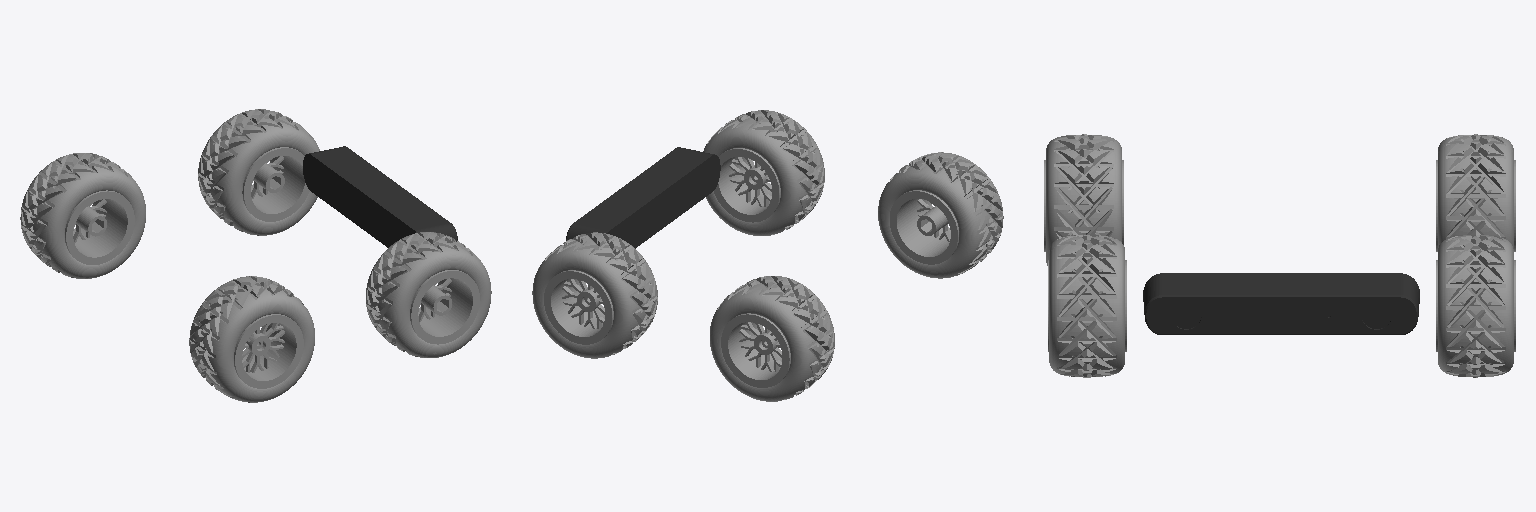
The robot description file, URDF, robot "mabot":
<?xml version="1.0" ?>
<!-- =================================================================================== -->
<!-- |    This document was autogenerated by xacro from mabot_description/urdf/mabot.urdf.xacro | -->
<!-- |    EDITING THIS FILE BY HAND IS NOT RECOMMENDED                                 | -->
<!-- =================================================================================== -->
<robot name="mabot">
  <!-- Materials (shared across all assemblies) -->
  <material name="Acetal_Resin_Black">
    <color rgba="0.098 0.098 0.098 1.0"/>
  </material>
  <material name="PA_11_Nylon_HP_11_30_with_EOS_P_396_3D_Printer">
    <color rgba="0.247 0.247 0.247 1.0"/>
  </material>
  <material name="Steel">
    <color rgba="0.627 0.627 0.627 1.0"/>
  </material>
  <link name="rear_left_wheel_link">
    <inertial>
      <origin rpy="0 0 0" xyz="0 0 0"/>
      <mass value="0.611603"/>
      <inertia ixx="5.265770e-04" ixy="-5.777757e-10" ixz="8.274260e-11" iyy="5.265750e-04" iyz="-6.033033e-11" izz="7.325315e-04"/>
    </inertial>
    <visual>
      <origin rpy="1.570796 0.000000 0.000000" xyz="-0.012900 -0.018051 0.005477"/>
      <geometry>
        <mesh filename="package://mabot_description/meshes/rear_left_wheel_link/rear_left_wheel_link.dae" scale="1 1 1"/>
      </geometry>
      <material name="Steel"/>
    </visual>
    <collision>
      <origin rpy="0 0 0" xyz="0 0 0"/>
      <geometry>
        <cylinder length="0.050" radius="0.045"/>
      </geometry>
    </collision>
  </link>
  <link name="front_left_wheel_link">
    <inertial>
      <origin rpy="0 0 0" xyz="0 0 0"/>
      <mass value="0.611603"/>
      <inertia ixx="5.265770e-04" ixy="-5.777757e-10" ixz="-8.274260e-11" iyy="5.265750e-04" iyz="6.033033e-11" izz="7.325315e-04"/>
    </inertial>
    <visual>
      <origin rpy="1.570796 0.000000 3.141593" xyz="-0.107100 0.070499 -0.137841"/>
      <geometry>
        <mesh filename="package://mabot_description/meshes/front_left_wheel_link/front_left_wheel_link.dae" scale="1 1 1"/>
      </geometry>
      <material name="Steel"/>
    </visual>
    <collision>
      <origin rpy="0 0 0" xyz="0 0 0"/>
      <geometry>
        <cylinder length="0.050" radius="0.045"/>
      </geometry>
    </collision>
  </link>
  <link name="front_right_wheel_link">
    <inertial>
      <origin rpy="0 0 0" xyz="0 0 0"/>
      <mass value="0.611603"/>
      <inertia ixx="5.265770e-04" ixy="-5.777757e-10" ixz="-8.274258e-11" iyy="5.265750e-04" iyz="6.033033e-11" izz="7.325315e-04"/>
    </inertial>
    <visual>
      <origin rpy="1.570796 0.000000 3.141593" xyz="0.179797 0.018051 0.124560"/>
      <geometry>
        <mesh filename="package://mabot_description/meshes/front_right_wheel_link/front_right_wheel_link.dae" scale="1 1 1"/>
      </geometry>
      <material name="Steel"/>
    </visual>
    <collision>
      <origin rpy="0 0 0" xyz="0 0 0"/>
      <geometry>
        <cylinder length="0.050" radius="0.045"/>
      </geometry>
    </collision>
  </link>
  <link name="rear_right_wheel_link">
    <inertial>
      <origin rpy="0 0 0" xyz="0 0 0"/>
      <mass value="0.611603"/>
      <inertia ixx="5.265770e-04" ixy="-5.777757e-10" ixz="8.274260e-11" iyy="5.265750e-04" iyz="-6.033033e-11" izz="7.325315e-04"/>
    </inertial>
    <visual>
      <origin rpy="1.570796 0.000000 0.000000" xyz="0.002378 -0.018051 -0.241816"/>
      <geometry>
        <mesh filename="package://mabot_description/meshes/rear_right_wheel_link/rear_right_wheel_link.dae" scale="1 1 1"/>
      </geometry>
      <material name="Steel"/>
    </visual>
    <collision>
      <origin rpy="0 0 0" xyz="0 0 0"/>
      <geometry>
        <cylinder length="0.050" radius="0.045"/>
      </geometry>
    </collision>
  </link>
  <!-- Links -->
  <link name="base_link">
    <inertial>
      <origin rpy="0 0 0" xyz="0.041574 -0.062494 0.024420"/>
      <mass value="2.899172"/>
      <inertia ixx="7.973854e-03" ixy="9.036948e-07" ixz="2.783510e-04" iyy="1.379501e-02" iyz="-4.481462e-07" izz="2.052789e-02"/>
    </inertial>
    <visual>
      <origin rpy="0.000000 0.000000 0.000000" xyz="0.000000 0.000000 0.000000"/>
      <geometry>
        <mesh filename="package://mabot_description/meshes/ma_robot/base_link.dae" scale="1 1 1"/>
      </geometry>
      <material name="Acetal_Resin_Black"/>
    </visual>
    <collision>
      <origin rpy="0.000000 0.000000 0.000000" xyz="0.000000 0.000000 0.000000"/>
      <geometry>
        <mesh filename="package://mabot_description/meshes/ma_robot/base_link_collision.stl" scale="0.01 0.01 0.01"/>
      </geometry>
    </collision>
  </link>
  <link name="zed2_camera_link">
    <inertial>
      <origin rpy="0 0 0" xyz="0.000000 0.015505 0.042389"/>
      <mass value="0.178229"/>
      <inertia ixx="2.662726e-05" ixy="-3.215230e-09" ixz="-1.621734e-09" iyy="4.362977e-04" iyz="-2.967393e-09" izz="4.390806e-04"/>
    </inertial>
    <visual>
      <origin rpy="0.000000 0.000000 0.000000" xyz="0.000000 0.000000 0.000000"/>
      <geometry>
        <mesh filename="package://mabot_description/meshes/ma_robot/zed2_camera_link.dae" scale="1 1 1"/>
      </geometry>
      <material name="PA_11_Nylon_HP_11_30_with_EOS_P_396_3D_Printer"/>
    </visual>
    <collision>
      <origin rpy="0.000000 0.000000 0.000000" xyz="0.000000 0.000000 0.000000"/>
      <geometry>
        <mesh filename="package://mabot_description/meshes/ma_robot/zed2_camera_link_collision.stl" scale="0.01 0.01 0.01"/>
      </geometry>
    </collision>
  </link>
  <link name="rplidar_s2_link">
    <inertial>
      <origin rpy="0 0 0" xyz="-0.595013 0.532942 0.012880"/>
      <mass value="0.203764"/>
      <inertia ixx="1.351079e-04" ixy="-7.653496e-09" ixz="1.410544e-08" iyy="1.362177e-04" iyz="3.930765e-08" izz="2.370283e-04"/>
    </inertial>
    <visual>
      <origin rpy="0.000000 0.000000 0.000000" xyz="0.000000 0.000000 0.000000"/>
      <geometry>
        <mesh filename="package://mabot_description/meshes/ma_robot/rplidar_s2_link.dae" scale="1 1 1"/>
      </geometry>
      <material name="Steel"/>
    </visual>
    <collision>
      <origin rpy="0.000000 0.000000 0.000000" xyz="0.000000 0.000000 0.000000"/>
      <geometry>
        <mesh filename="package://mabot_description/meshes/ma_robot/rplidar_s2_link_collision.stl" scale="0.01 0.01 0.01"/>
      </geometry>
    </collision>
  </link>
  <!-- Joints (internal to assembly) -->
  <joint name="zed2_camera_joint" type="fixed">
    <parent link="base_link"/>
    <child link="zed2_camera_link"/>
    <origin rpy="0.000000 0.000000 -1.570796" xyz="0.145000 -0.062500 -0.007371"/>
  </joint>
  <joint name="rplidar_s2_joint" type="fixed">
    <parent link="base_link"/>
    <child link="rplidar_s2_link"/>
    <origin rpy="0.000000 0.000000 -1.570796" xyz="-0.433747 -0.657506 0.046815"/>
  </joint>
  <!-- Wheel mount joints -->
  <!-- Front-left wheel -->
  <joint name="front_left_wheel_joint" type="continuous">
    <parent link="base_link"/>
    <child link="front_left_wheel_link"/>
    <origin rpy="-1.570796 0.000000 0.000000" xyz="0.130000 0.060000 0.020000"/>
    <axis xyz="0.000000 0.000000 1.000000"/>
    <limit effort="100.0" velocity="1.00"/>
  </joint>
  <!-- Front-right wheel -->
  <joint name="front_right_wheel_joint" type="continuous">
    <parent link="base_link"/>
    <child link="front_right_wheel_link"/>
    <origin rpy="1.570796 0.000000 0.000000" xyz="0.130000 -0.185000 0.020000"/>
    <axis xyz="0.000000 0.000000 1.000000"/>
    <limit effort="100.0" velocity="1.00"/>
  </joint>
  <!-- Rear-left wheel -->
  <joint name="rear_left_wheel_joint" type="continuous">
    <parent link="base_link"/>
    <child link="rear_left_wheel_link"/>
    <origin rpy="-1.570796 0.000000 0.000000" xyz="-0.020000 0.060000 0.020000"/>
    <axis xyz="0.000000 0.000000 1.000000"/>
    <limit effort="100.0" velocity="1.00"/>
  </joint>
  <!-- Rear-right wheel -->
  <joint name="rear_right_wheel_joint" type="continuous">
    <parent link="base_link"/>
    <child link="rear_right_wheel_link"/>
    <origin rpy="1.570796 0.000000 0.000000" xyz="-0.020000 -0.187000 0.020000"/>
    <axis xyz="0.000000 0.000000 1.000000"/>
    <limit effort="100.0" velocity="1.00"/>
  </joint>
  <!-- ROS 2 control: generated generic system -->
  <ros2_control name="mabot_system" type="system">
    <hardware>
      <plugin>mock_components/GenericSystem</plugin>
      <param name="cmd_topic">sim/mabot_system/cmd</param>
      <param name="state_topic">sim/mabot_system/state</param>
    </hardware>
    <joint name="front_left_wheel_joint">
      <command_interface name="position"/>
      <command_interface name="velocity"/>
      <state_interface name="position">
        <param name="initial_value">0.0</param>
      </state_interface>
      <state_interface name="velocity"/>
      <state_interface name="effort"/>
    </joint>
    <joint name="front_right_wheel_joint">
      <command_interface name="position"/>
      <command_interface name="velocity"/>
      <state_interface name="position">
        <param name="initial_value">0.0</param>
      </state_interface>
      <state_interface name="velocity"/>
      <state_interface name="effort"/>
    </joint>
    <joint name="rear_left_wheel_joint">
      <command_interface name="position"/>
      <command_interface name="velocity"/>
      <state_interface name="position">
        <param name="initial_value">0.0</param>
      </state_interface>
      <state_interface name="velocity"/>
      <state_interface name="effort"/>
    </joint>
    <joint name="rear_right_wheel_joint">
      <command_interface name="position"/>
      <command_interface name="velocity"/>
      <state_interface name="position">
        <param name="initial_value">0.0</param>
      </state_interface>
      <state_interface name="velocity"/>
      <state_interface name="effort"/>
    </joint>
  </ros2_control>
</robot>

--- Render facts (derived) ---
Views: 3 orthographic renders of the robot side by side, from view 1: azimuth 30°, elevation 25°; view 2: azimuth 150°, elevation 25°; view 3: azimuth 270°, elevation 25°.
Model mabot with 7 links and 6 joints (4 continuous, 2 fixed), rooted at base_link, posed every joint at zero.
Visible links, largest first — view 1: rear_right_wheel_link, rear_left_wheel_link, front_right_wheel_link, front_left_wheel_link, zed2_camera_link; view 2: rear_left_wheel_link, front_left_wheel_link, rear_right_wheel_link, front_right_wheel_link, zed2_camera_link; view 3: zed2_camera_link, front_left_wheel_link, front_right_wheel_link, rear_right_wheel_link, rear_left_wheel_link.
Link boxes in pixels (left/top/right/bottom): rear_right_wheel_link: left=189, top=276, right=314, bottom=402; rear_left_wheel_link: left=20, top=153, right=145, bottom=278; front_right_wheel_link: left=366, top=232, right=491, bottom=357; front_left_wheel_link: left=198, top=109, right=319, bottom=235; zed2_camera_link: left=303, top=146, right=457, bottom=247; rear_left_wheel_link: left=710, top=276, right=834, bottom=401; front_left_wheel_link: left=532, top=232, right=657, bottom=358; rear_right_wheel_link: left=878, top=152, right=1003, bottom=278; front_right_wheel_link: left=703, top=110, right=824, bottom=235; zed2_camera_link: left=566, top=147, right=720, bottom=248; zed2_camera_link: left=1143, top=273, right=1419, bottom=334; front_left_wheel_link: left=1436, top=235, right=1515, bottom=377; front_right_wheel_link: left=1048, top=235, right=1126, bottom=377; rear_right_wheel_link: left=1044, top=134, right=1123, bottom=265; rear_left_wheel_link: left=1436, top=134, right=1515, bottom=251.
Bounding box of the posed robot: 0.2416 × 0.297 × 0.0899 m (x, y, z).
Meshes: 7 distinct files referenced, 5 mesh visuals loaded (5 Collada DAE); not drawn: 2 (reference not matched to a file when rendering).
